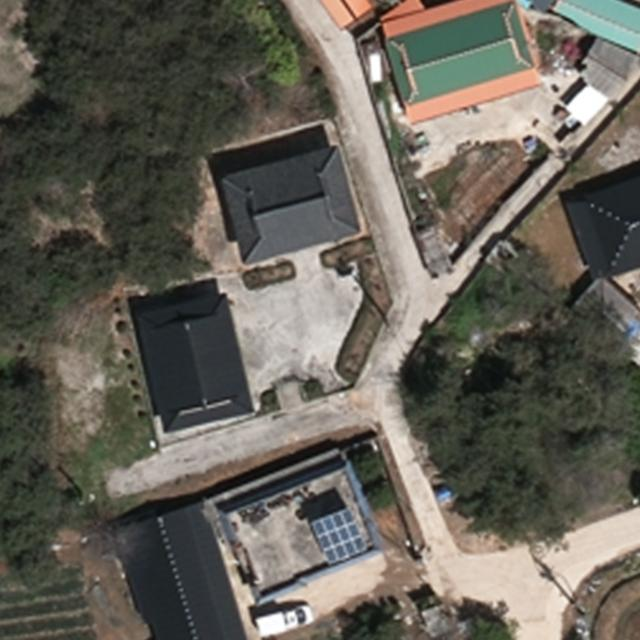panel: (310, 504, 372, 566)
